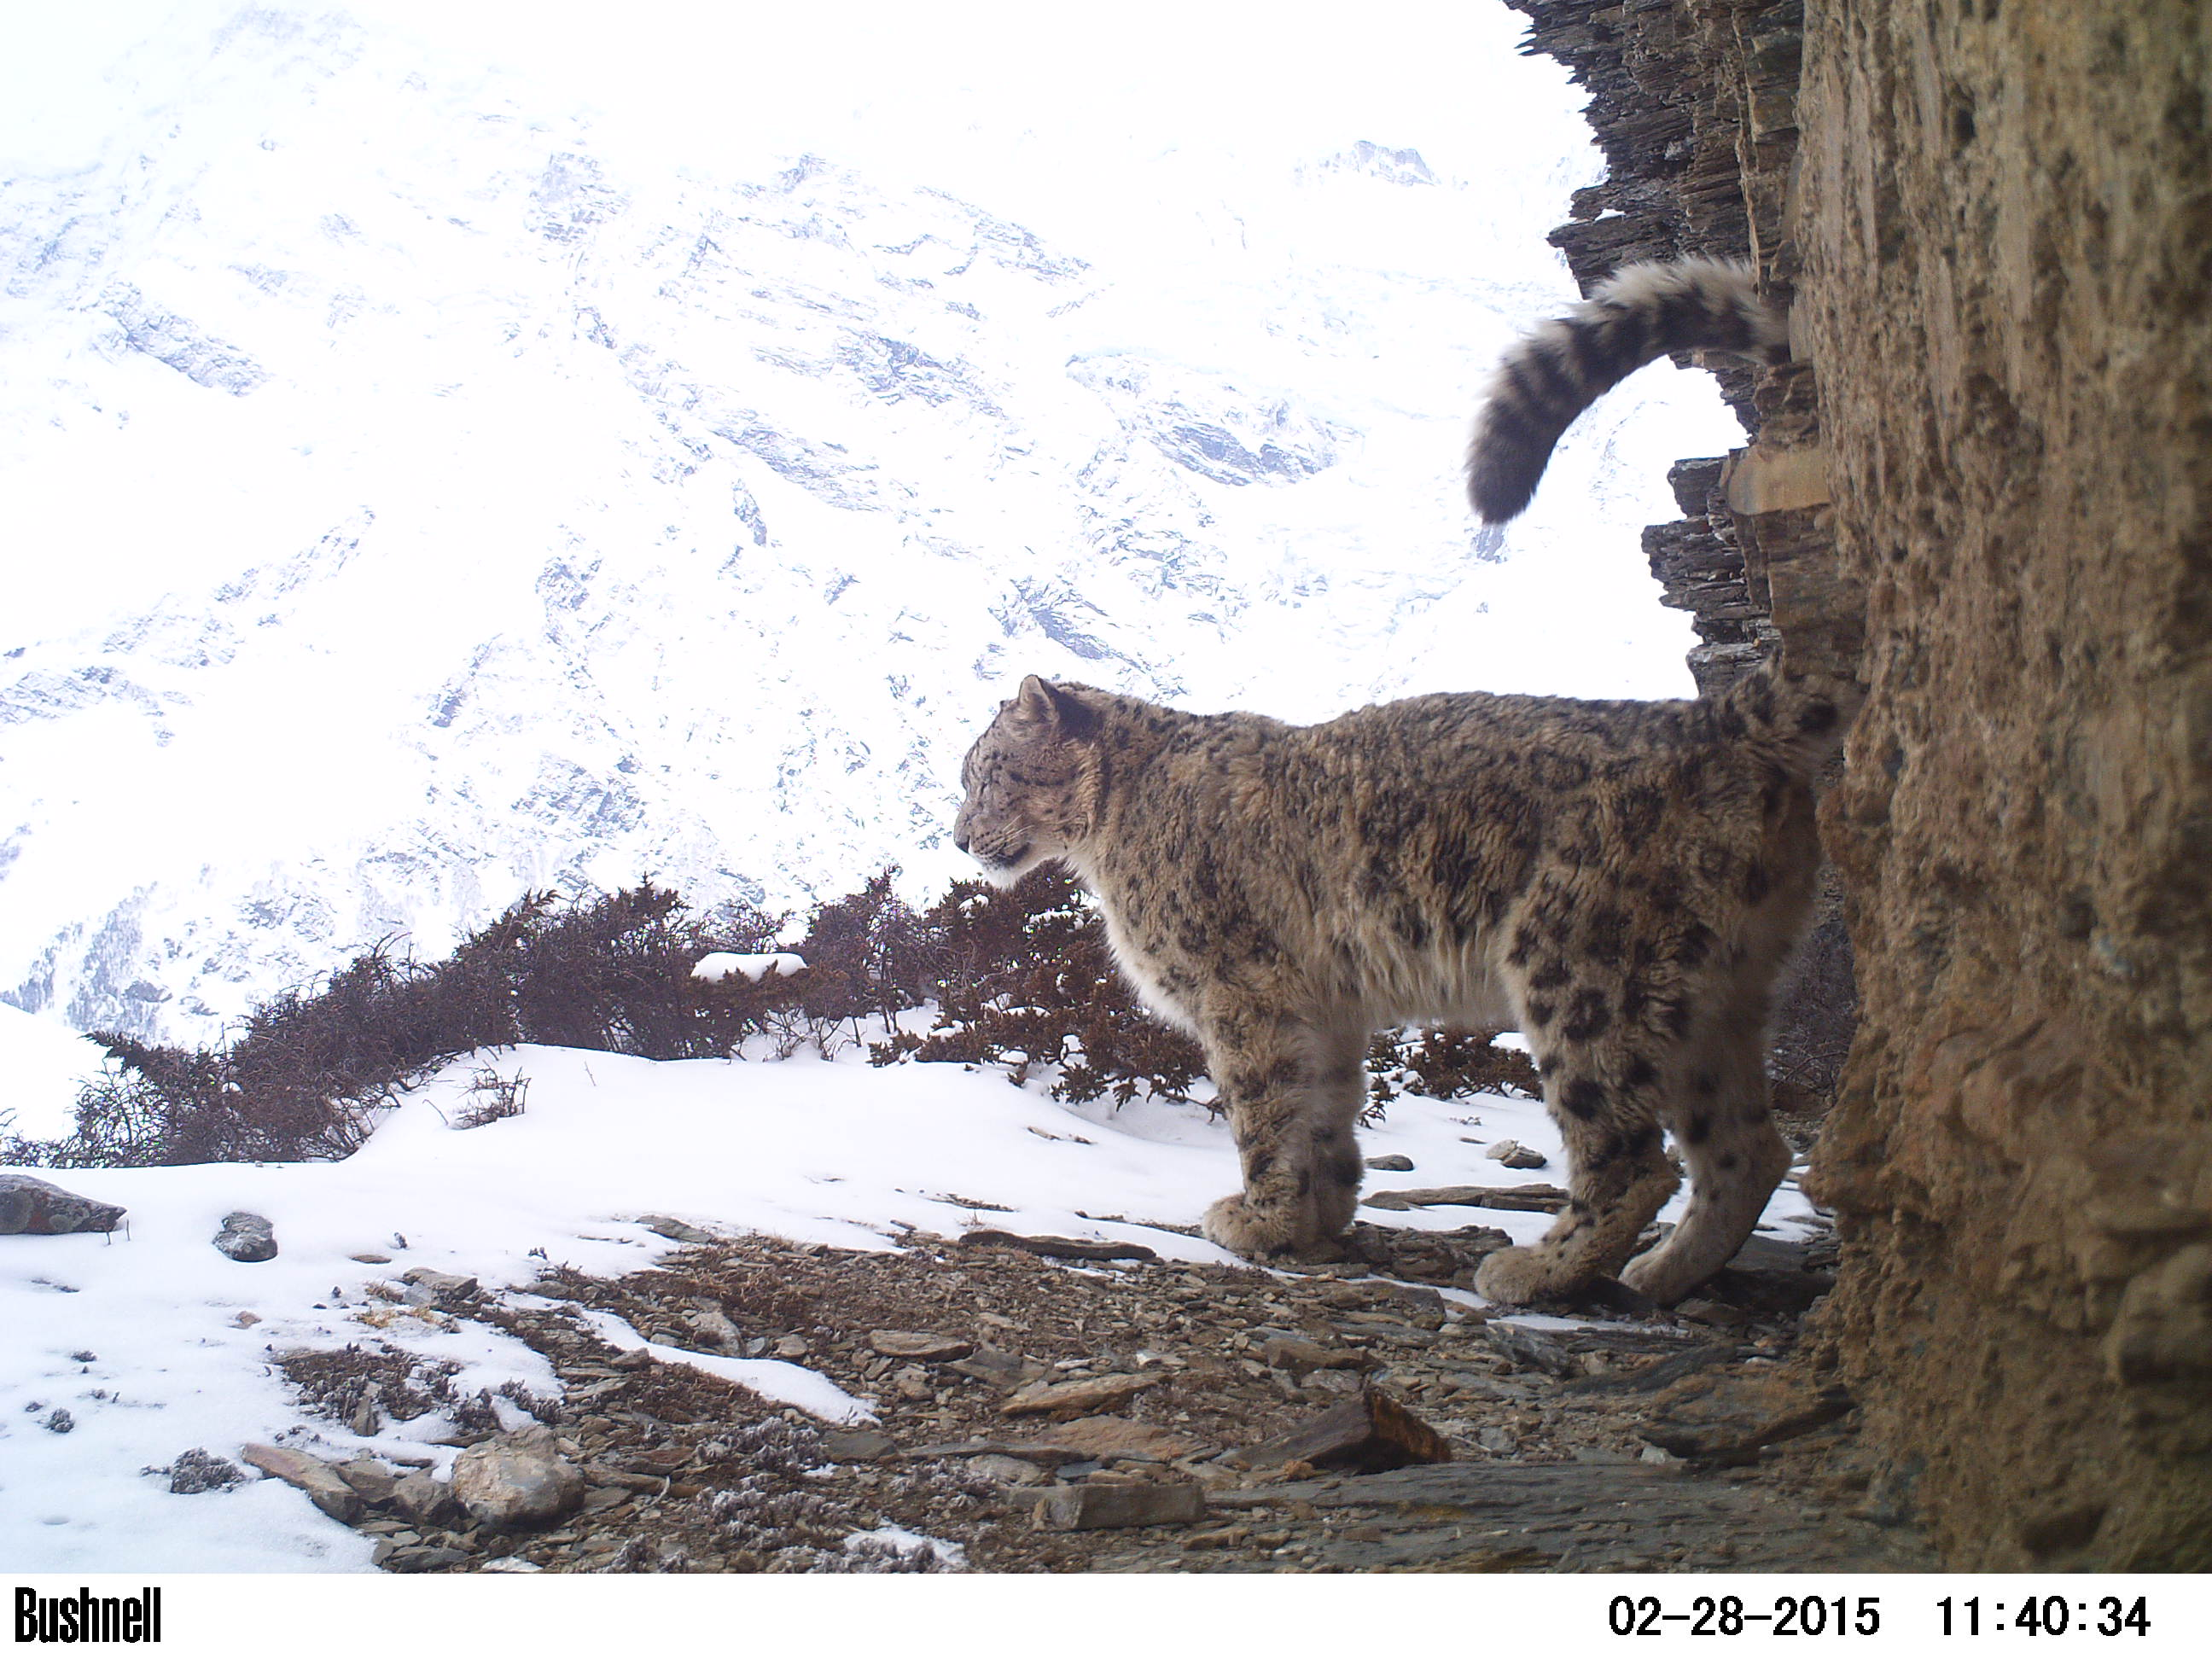cat: (878, 247, 1916, 1356)
